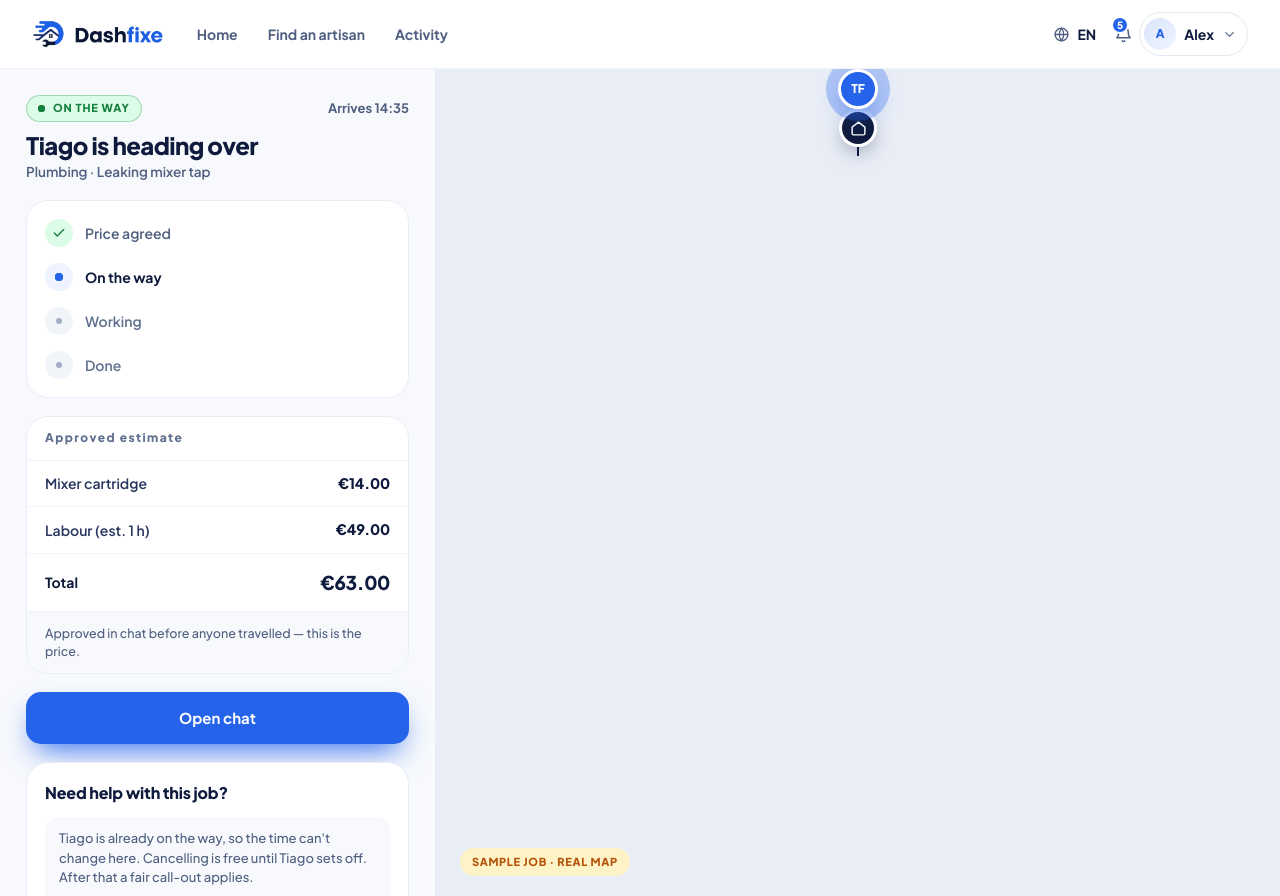
/job/:id › tracks the live job: timeline, approved estimate, chat that really sends
Expected: the heading "Tiago is heading over" is shown, [26,130,258,160]
Expected: the text "Price agreed" is shown, [85,223,171,244]
Click the button "Open chat" at (218, 718), box [26,692,409,744]
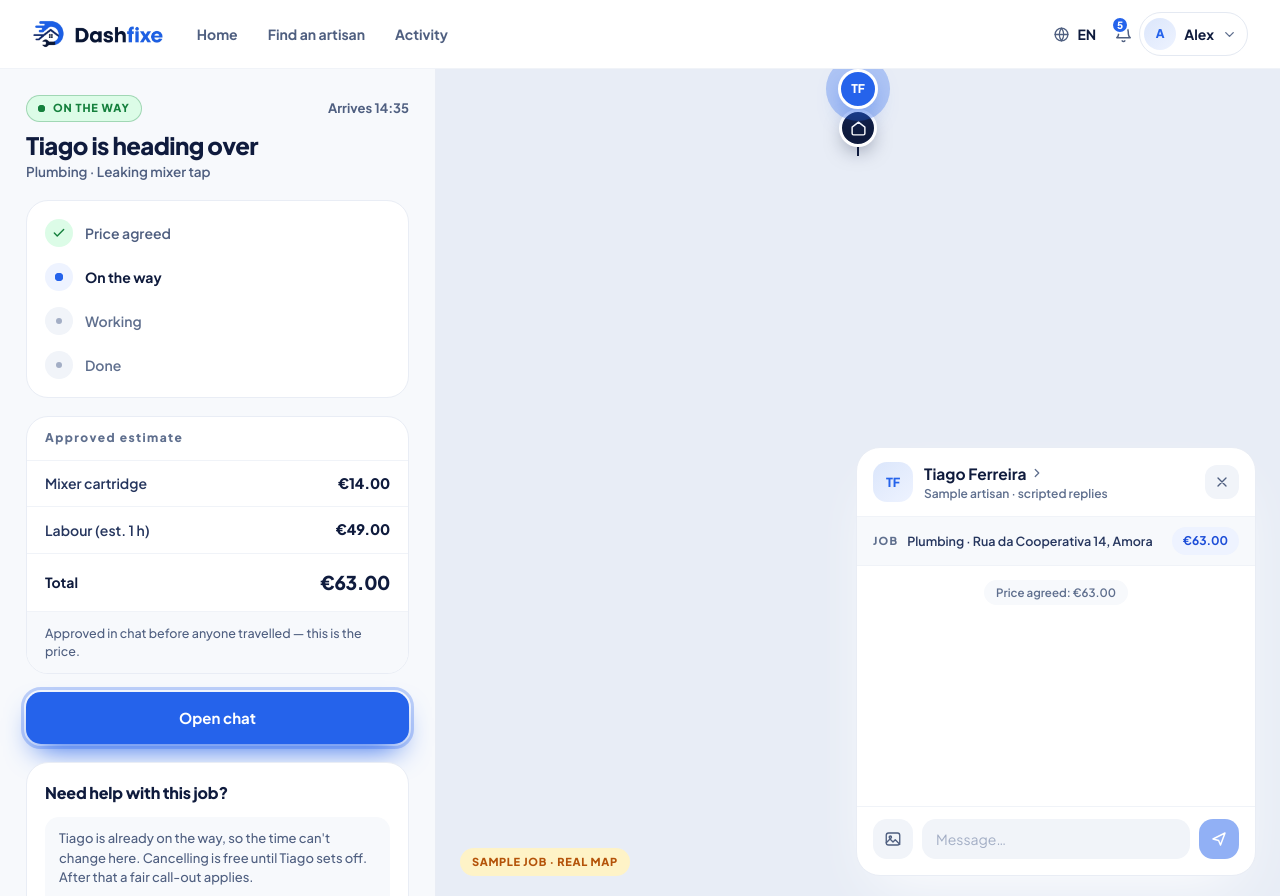
Type "The gate code is 4412" into the field labelled "Message" at (1056, 839), box [922,819,1190,859]
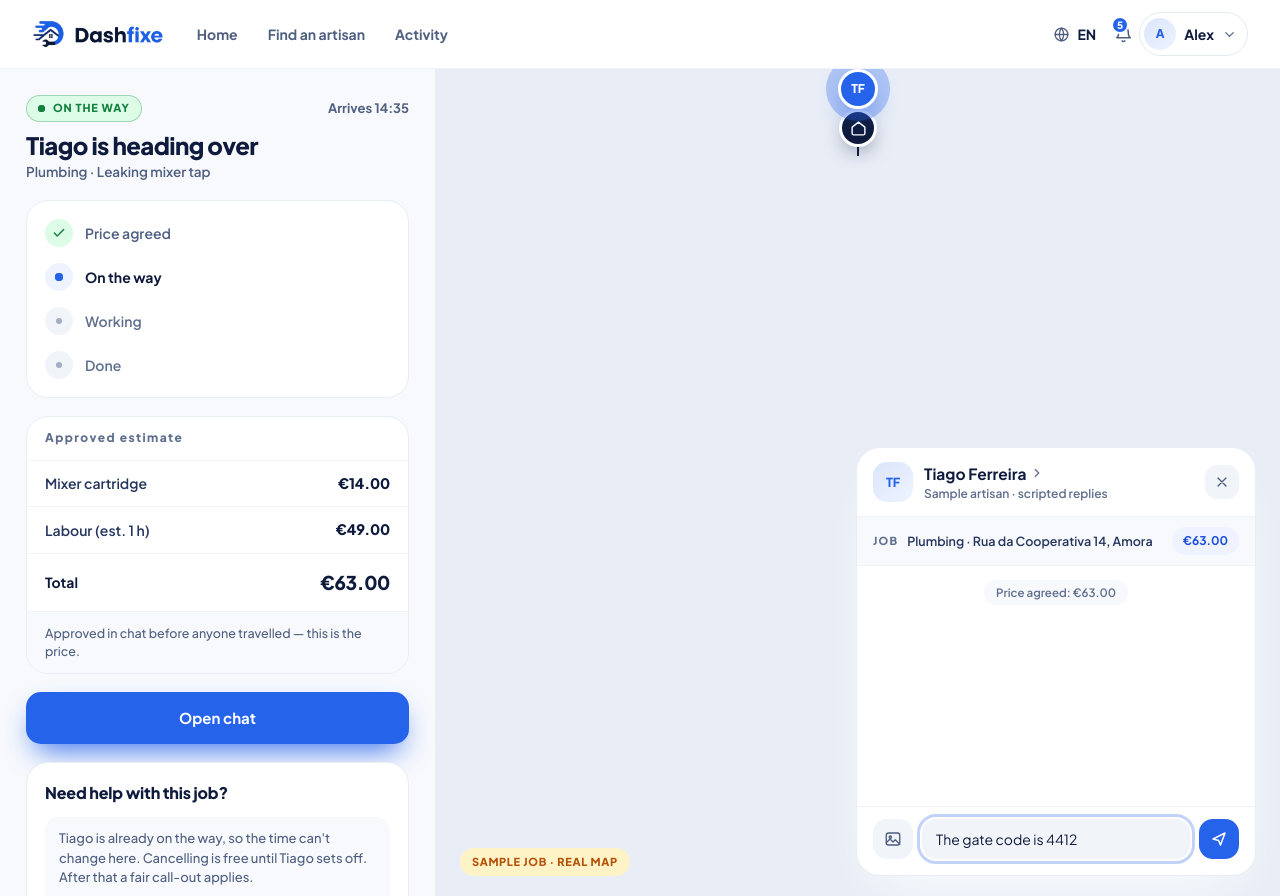
Click the button named "Send" at (1219, 839), box [1199,819,1239,859]
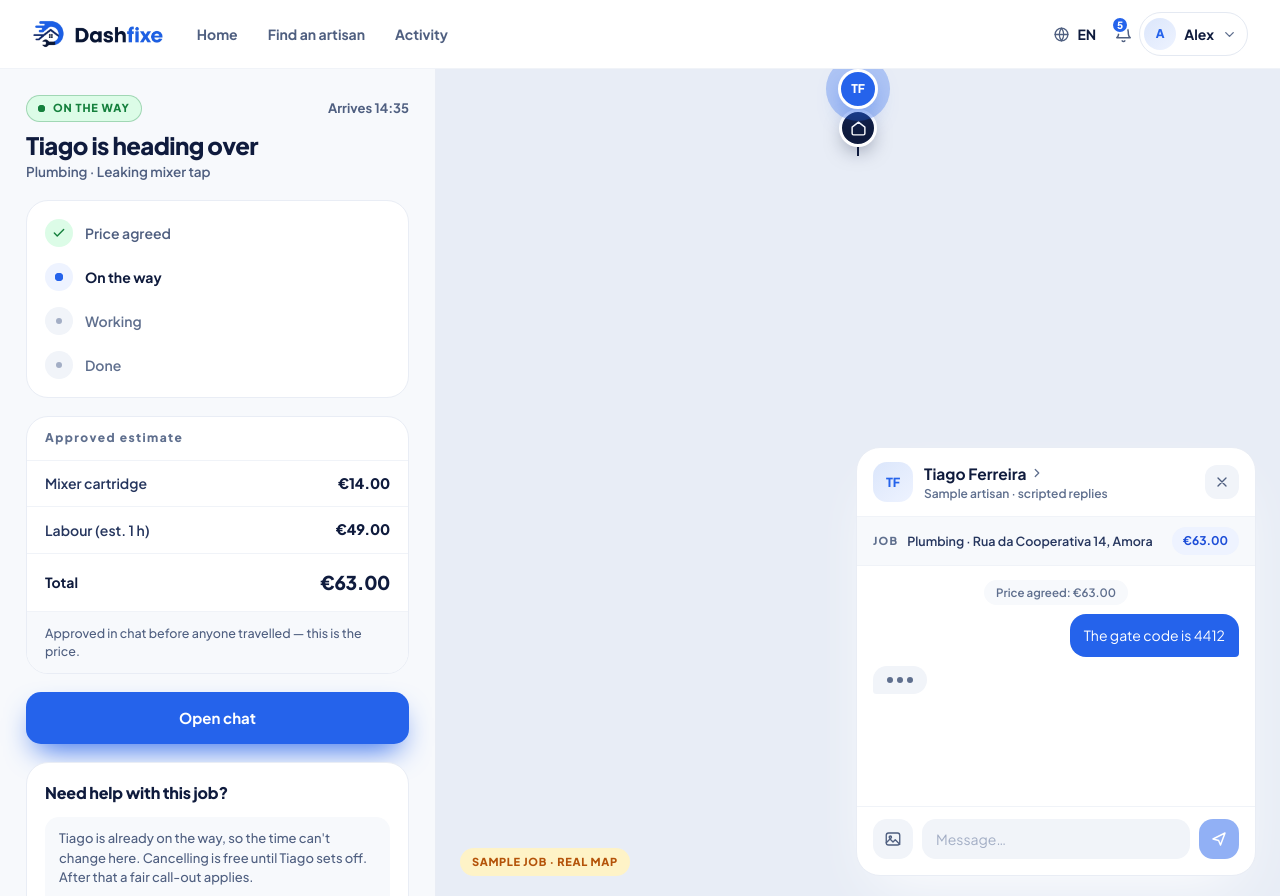
Now the text "The gate code is 4412" is shown, box [1070,614,1239,657]
